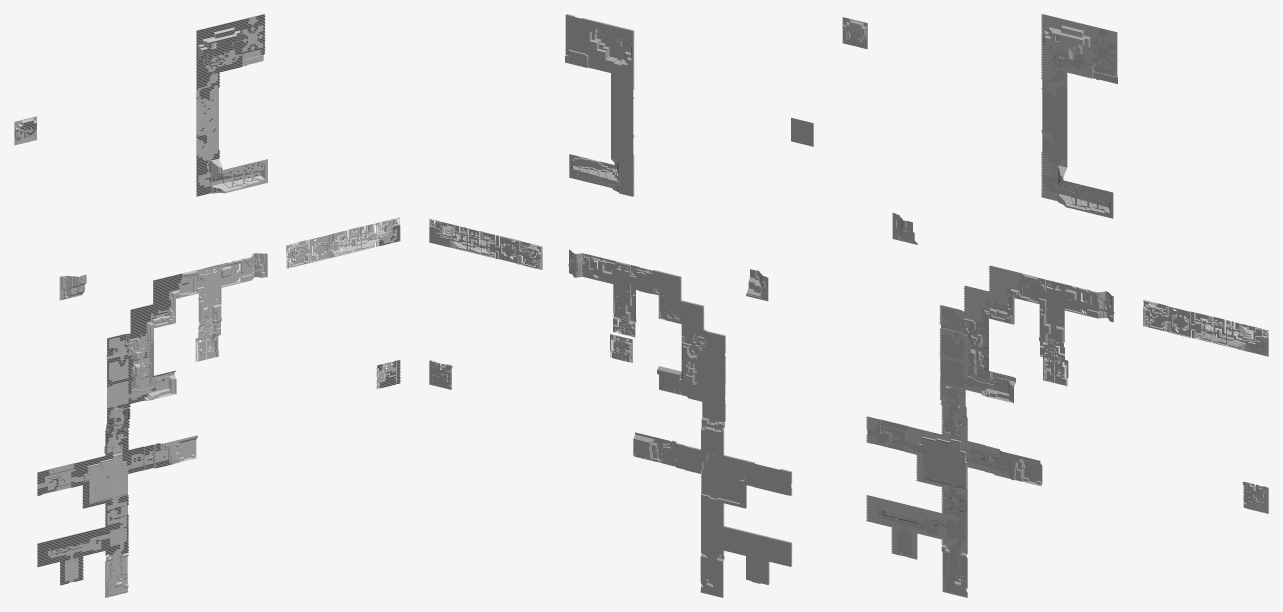
Rendered from Plat_full.obj.
3 views of the same model, side by side, from view 1: azimuth 30°, elevation 25°; view 2: azimuth 150°, elevation 25°; view 3: azimuth 330°, elevation 25° (orthographic). The views are drawn at different scales.
Visible parts, largest first — view 1: map; view 2: map; view 3: map.
Boxes of the visible parts, x1=… form: map: x1=14, y1=14, x2=400, y2=597; map: x1=429, y1=14, x2=813, y2=597; map: x1=842, y1=14, x2=1268, y2=597.
Size of the model in its own units: 544 by 736 by 15.41.
